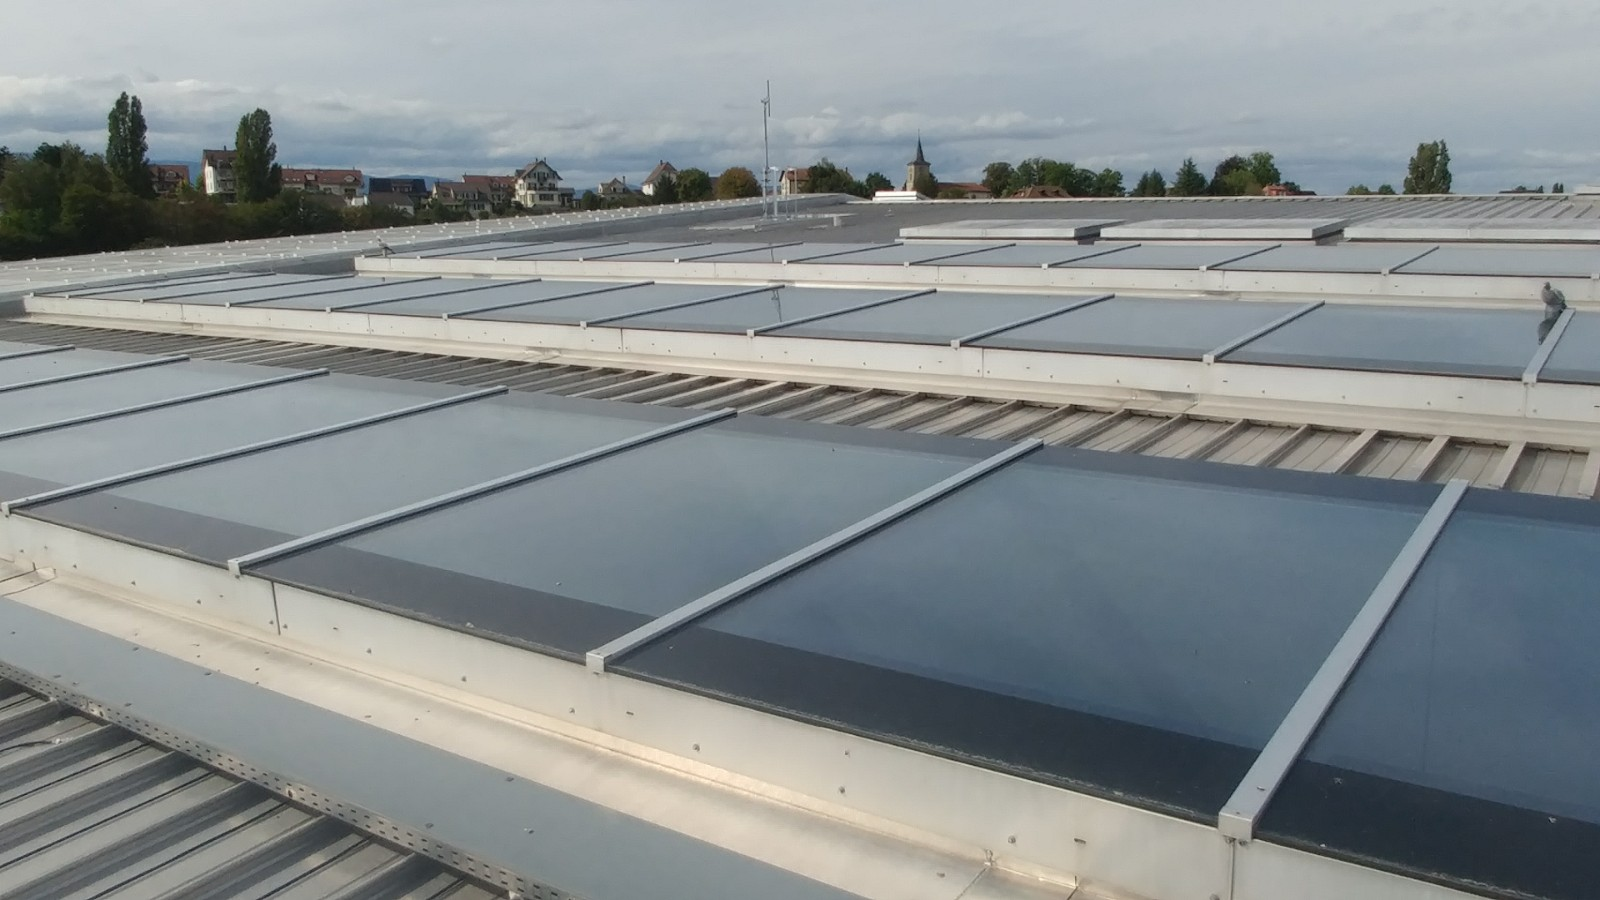Pigeon: (1536, 279, 1575, 316), (376, 235, 396, 259)
